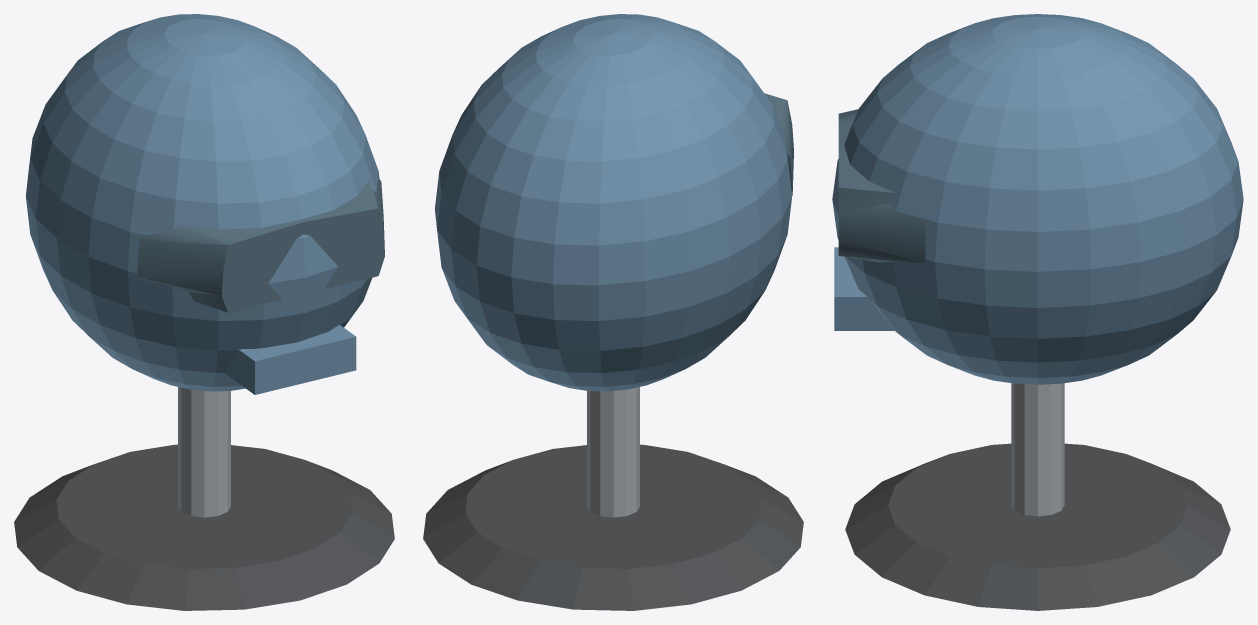
File: helmetStand.glb
3 views of the same model, side by side, from view 1: azimuth 30°, elevation 25°; view 2: azimuth 150°, elevation 25°; view 3: azimuth 270°, elevation 25° (orthographic).
Parts seen in each view (by area): view 1: helmet-on-stand; view 2: helmet-on-stand; view 3: helmet-on-stand.
Part boxes in pixels (<box>): helmet-on-stand: <box>14,14,394,610</box>; helmet-on-stand: <box>423,14,803,610</box>; helmet-on-stand: <box>832,14,1243,610</box>.
Bounding box in the file's own units: 0.36 × 0.516 × 0.384.
